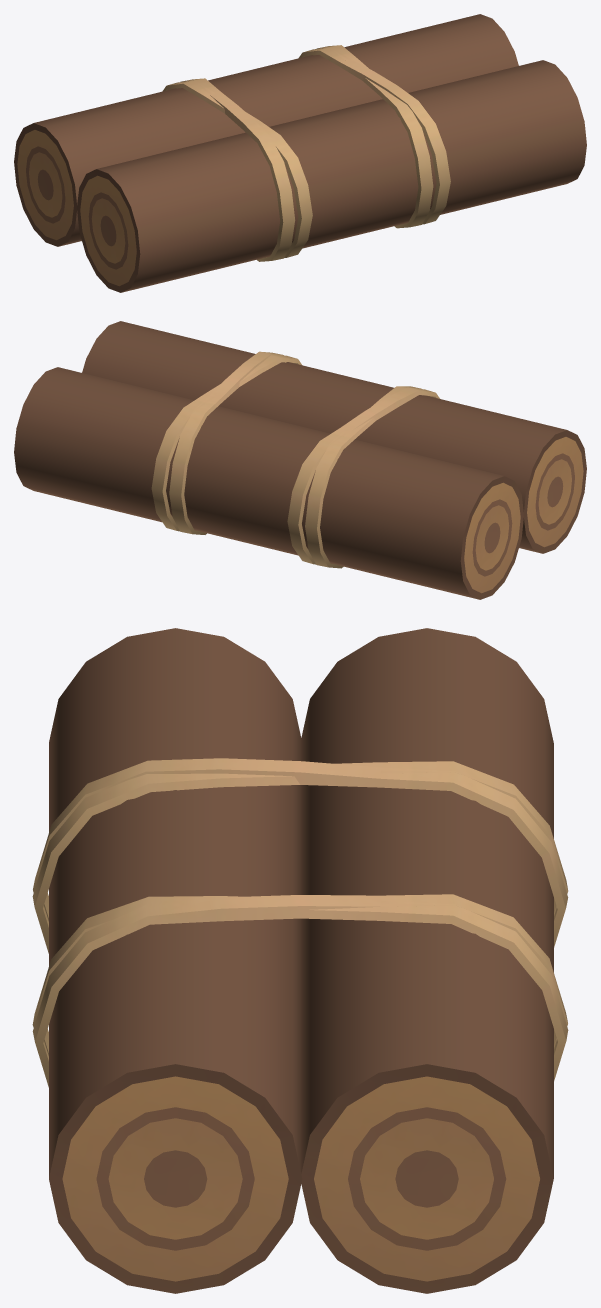
File: w raft l.fbx
3 renders of one model, top to bottom at view 1: azimuth 30°, elevation 25°; view 2: azimuth 150°, elevation 25°; view 3: azimuth 270°, elevation 25°, orthographic. The views are drawn at different scales.
Parts seen in each view (by area): view 1: long_wooden_raft; view 2: long_wooden_raft; view 3: long_wooden_raft.
Part boxes in pixels (left/top/right/bottom): long_wooden_raft: left=14, top=14, right=586, bottom=292; long_wooden_raft: left=14, top=321, right=586, bottom=599; long_wooden_raft: left=32, top=628, right=568, bottom=1293.
Size of the model in its own units: 14.43 by 3.87 by 7.49.
1 material, 1 textured.
